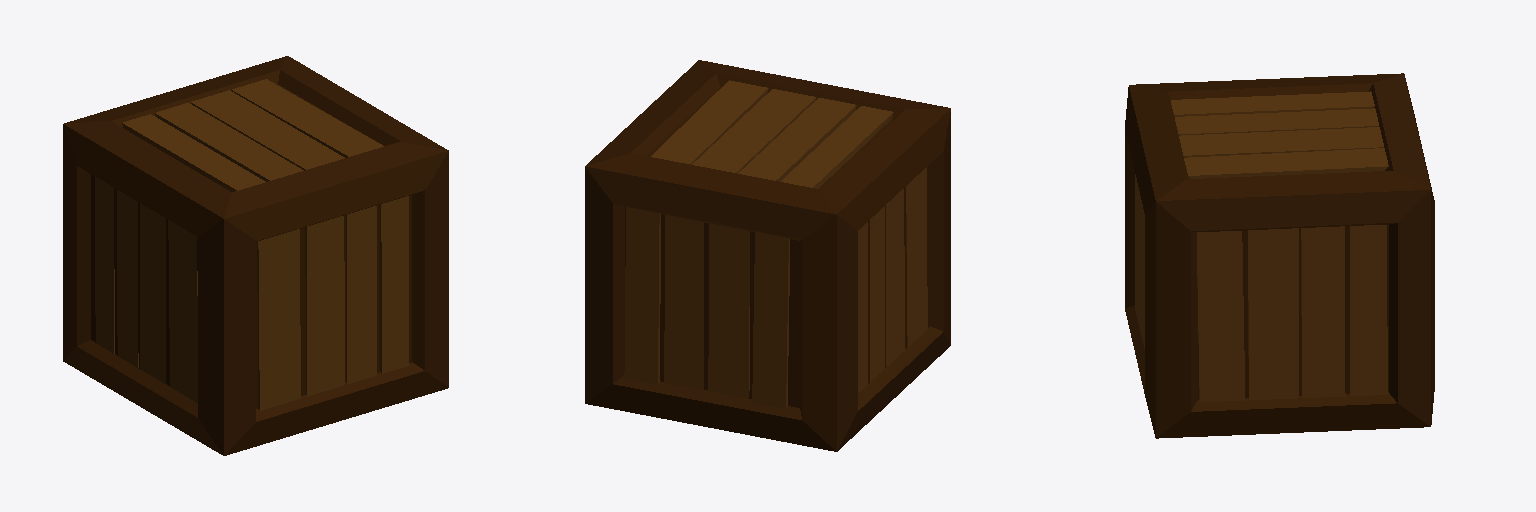
Rendered from Crate_Cube.obj.
3 views of the same model, side by side, from view 1: azimuth 30°, elevation 25°; view 2: azimuth 150°, elevation 25°; view 3: azimuth 270°, elevation 25° (orthographic).
Parts seen in each view (by area): view 1: Crate_Cube.200; view 2: Crate_Cube.200; view 3: Crate_Cube.200.
Boxes of the visible parts, x1=… form: Crate_Cube.200: x1=63, y1=56, x2=448, y2=455; Crate_Cube.200: x1=585, y1=60, x2=950, y2=451; Crate_Cube.200: x1=1125, y1=73, x2=1434, y2=438.
Bounding box in the file's own units: 0.0975 × 0.0865 × 0.0975.